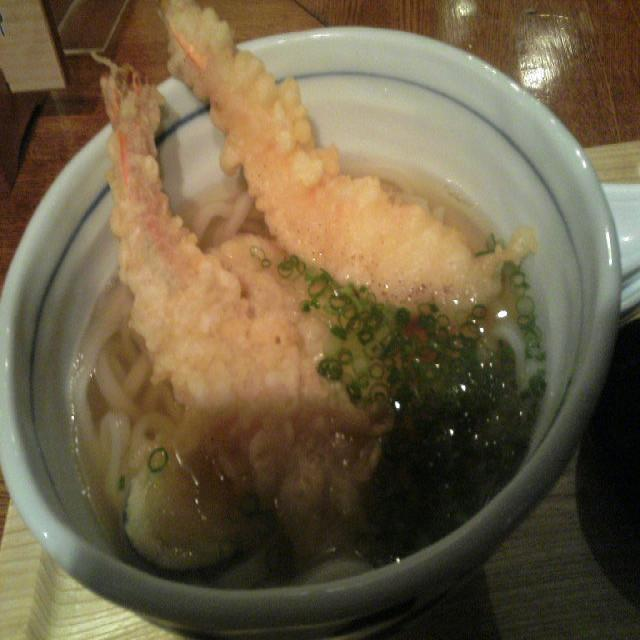面条主食: (64, 144, 556, 613)
